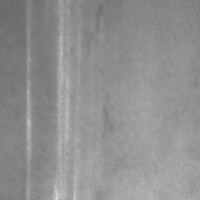scratches: (54, 8, 74, 195), (23, 8, 36, 199)
